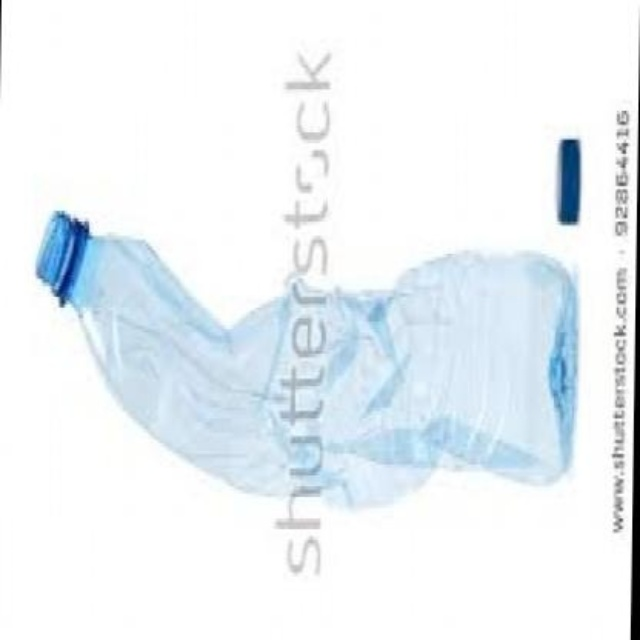trash: (37, 212, 575, 505)
